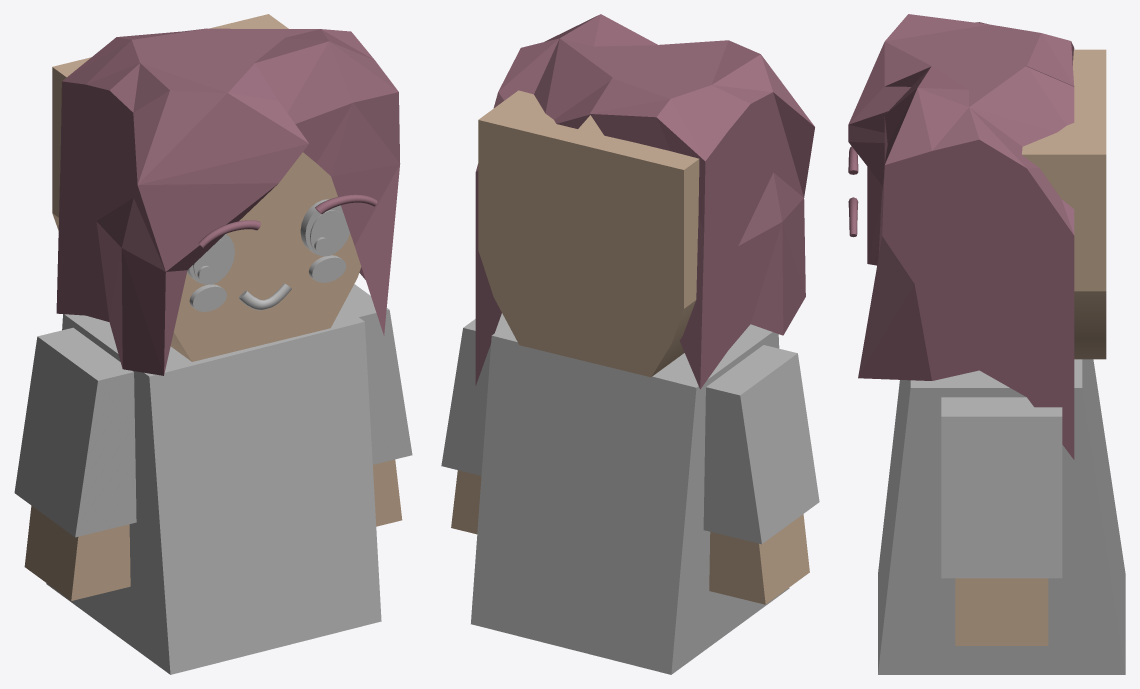
The model's file is Customer3.fbx.
3 views of the same model, side by side, from view 1: azimuth 30°, elevation 25°; view 2: azimuth 150°, elevation 25°; view 3: azimuth 270°, elevation 25° (orthographic). The views are drawn at different scales.
Visible parts, largest first — view 1: shirt, hairBrows, skin, eyes, blushes, white, mouth; view 2: shirt, skin, hairBrows; view 3: hairBrows, shirt, skin.
Boxes of the visible parts, left/top/right/bottom form: shirt: left=14, top=284, right=412, bottom=674; hairBrows: left=56, top=28, right=400, bottom=375; skin: left=24, top=14, right=402, bottom=600; eyes: left=193, top=210, right=347, bottom=284; blushes: left=189, top=255, right=346, bottom=311; white: left=187, top=199, right=349, bottom=284; mouth: left=239, top=283, right=291, bottom=310; shirt: left=441, top=313, right=819, bottom=674; skin: left=451, top=90, right=809, bottom=604; hairBrows: left=475, top=14, right=814, bottom=389; hairBrows: left=848, top=14, right=1074, bottom=459; shirt: left=878, top=359, right=1125, bottom=674; skin: left=955, top=49, right=1106, bottom=645.
Size of the model in its own units: 3.12 by 5.09 by 2.23.
